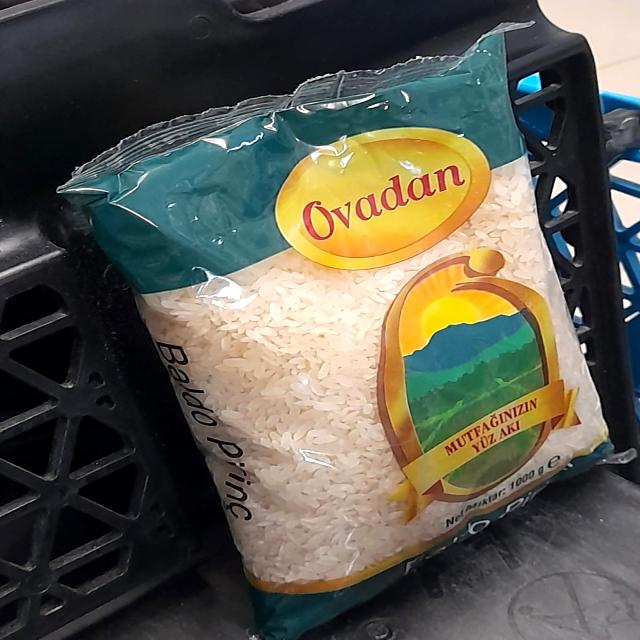rice: (120, 125, 640, 638)
